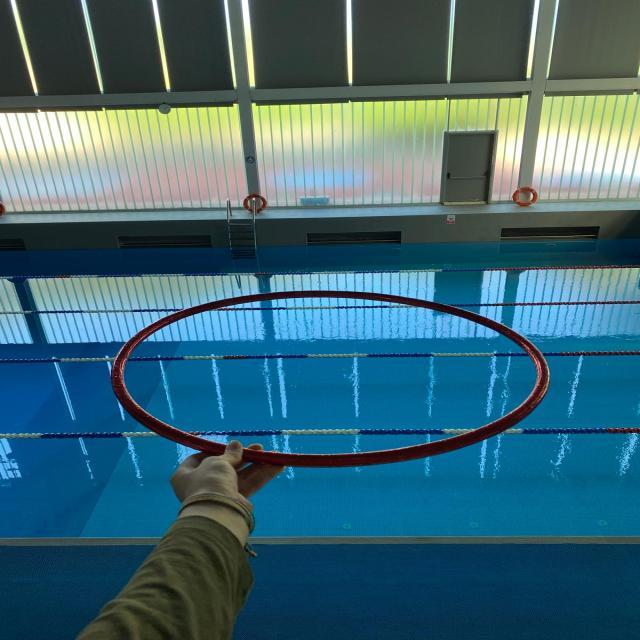Circle: (110, 286, 552, 468)
